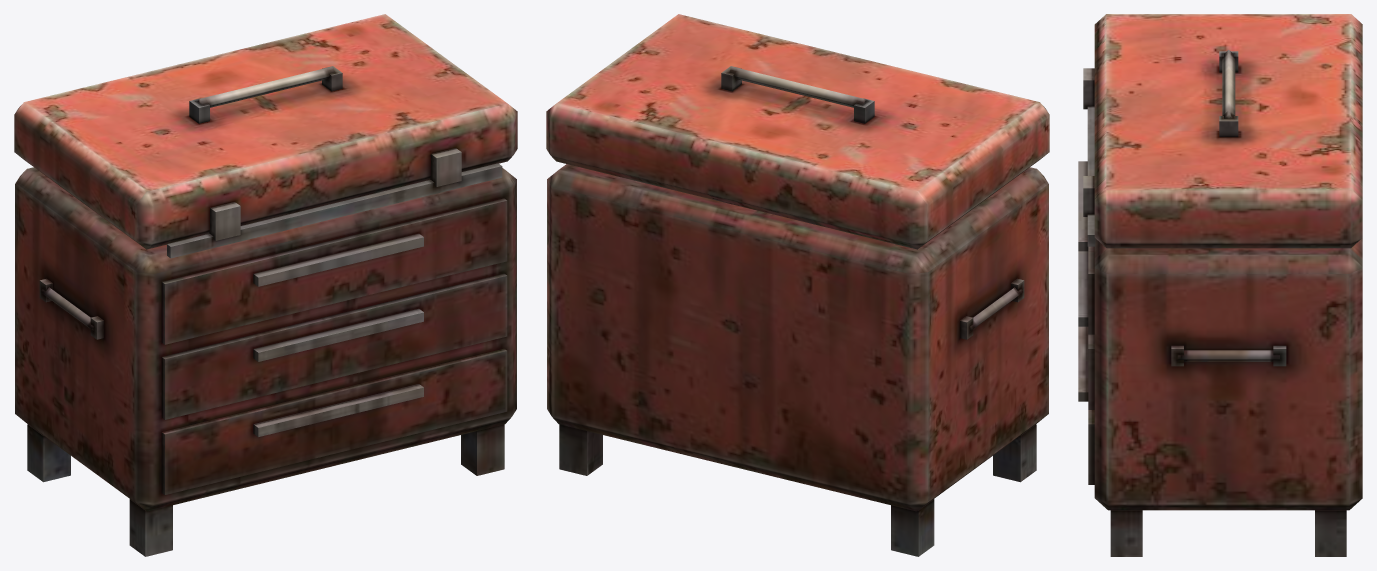
File: caixa_ferramentas.glb
3 renders of one model, left to right at view 1: azimuth 30°, elevation 25°; view 2: azimuth 150°, elevation 25°; view 3: azimuth 270°, elevation 25°, orthographic.
Visible parts, largest first — view 1: caixa_ferramentas; view 2: caixa_ferramentas; view 3: caixa_ferramentas.
Boxes of the visible parts, x1,y1,x2,y2 form: caixa_ferramentas: [14, 14, 517, 556]; caixa_ferramentas: [546, 14, 1049, 556]; caixa_ferramentas: [1078, 14, 1362, 556].
Bounding box in the file's own units: 0.724 × 0.67 × 0.446.
Materials: 1 (1 with a texture image).
